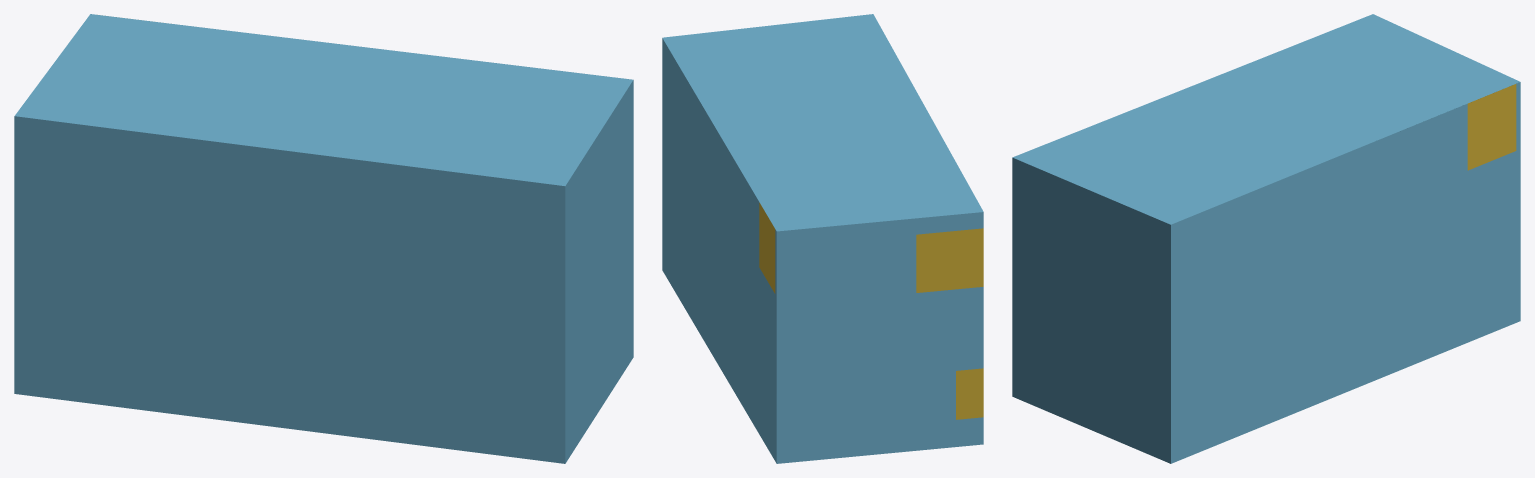
The model's file is bldg_a14072b6-c8e0-4211-a157-d87af01c5bbd.obj.
3 views of the same model, side by side, from view 1: azimuth 30°, elevation 25°; view 2: azimuth 150°, elevation 25°; view 3: azimuth 270°, elevation 25° (orthographic). The views are drawn at different scales.
Bounding box in the file's own units: 10.8 × 5.72 × 11.01.
